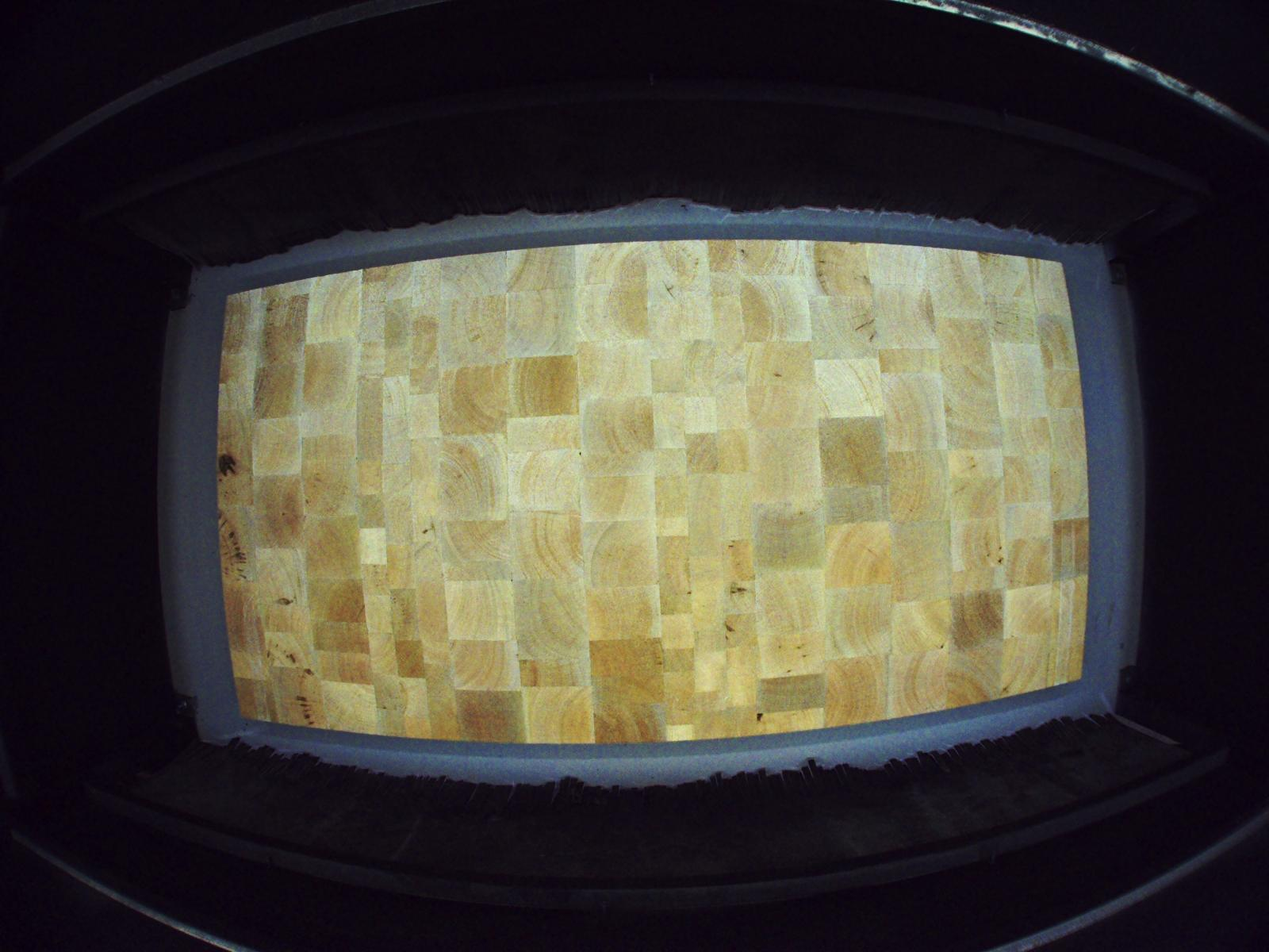nudillo: (217, 452, 238, 479)
